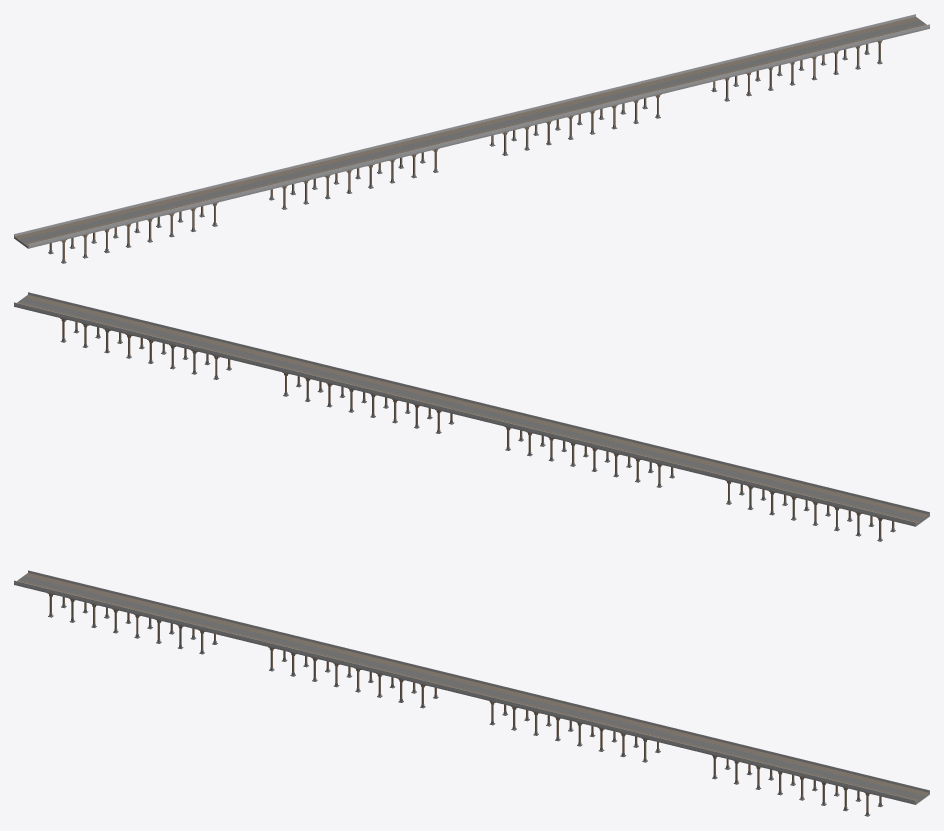
File: 20251119_BRIDGE Updated.fbx
3 views of the same model, one above another, from view 1: azimuth 30°, elevation 25°; view 2: azimuth 150°, elevation 25°; view 3: azimuth 330°, elevation 25° (orthographic).
Parts seen in each view (by area): view 1: Plant pottery, HANDRAILS, COLUMN, SLAB; view 2: Plant pottery, HANDRAILS, COLUMN, SLAB; view 3: Plant pottery, HANDRAILS, COLUMN, SLAB.
Boxes of the visible parts, bbox=[...] form: Plant pottery: bbox=[14, 17, 926, 246]; HANDRAILS: bbox=[14, 14, 929, 247]; COLUMN: bbox=[48, 40, 882, 263]; SLAB: bbox=[14, 27, 929, 248]; Plant pottery: bbox=[17, 295, 929, 524]; HANDRAILS: bbox=[14, 292, 929, 525]; COLUMN: bbox=[60, 318, 895, 541]; SLAB: bbox=[14, 305, 929, 526]; Plant pottery: bbox=[17, 573, 929, 802]; HANDRAILS: bbox=[14, 570, 929, 803]; COLUMN: bbox=[47, 593, 883, 816]; SLAB: bbox=[14, 583, 929, 804].
Size of the model in its own units: 12960 by 377 by 378.
6 materials, 6 textured.
